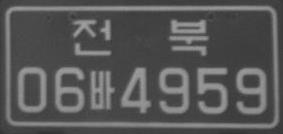0: (16, 66, 48, 113)
4: (120, 66, 151, 113)
5: (196, 65, 229, 115)
6: (53, 66, 86, 113)
9: (234, 66, 268, 115), (157, 66, 190, 114)
바: (89, 70, 114, 110)
전북_D: (70, 18, 209, 55)
